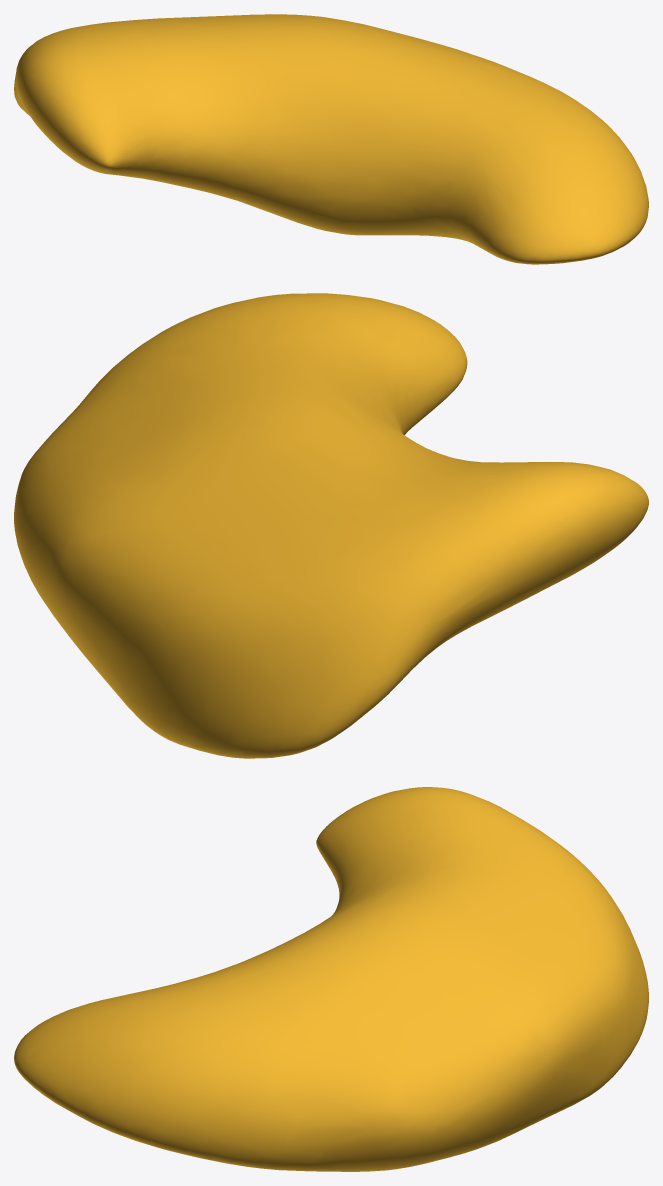
Rendered from nervoso-superior-semilunar-lobule-l.glb.
3 renders of one model, top to bottom at view 1: azimuth 30°, elevation 25°; view 2: azimuth 150°, elevation 25°; view 3: azimuth 270°, elevation 25°, orthographic. The views are drawn at different scales.
Visible parts, largest first — view 1: Superior semilunar lobule.l; view 2: Superior semilunar lobule.l; view 3: Superior semilunar lobule.l.
Boxes of the visible parts, x1,y1,x2,y2 form: Superior semilunar lobule.l: (14, 14, 648, 264); Superior semilunar lobule.l: (14, 293, 648, 758); Superior semilunar lobule.l: (14, 787, 648, 1171).
Bounding box in the file's own units: 0.049 × 0.0193 × 0.056.
